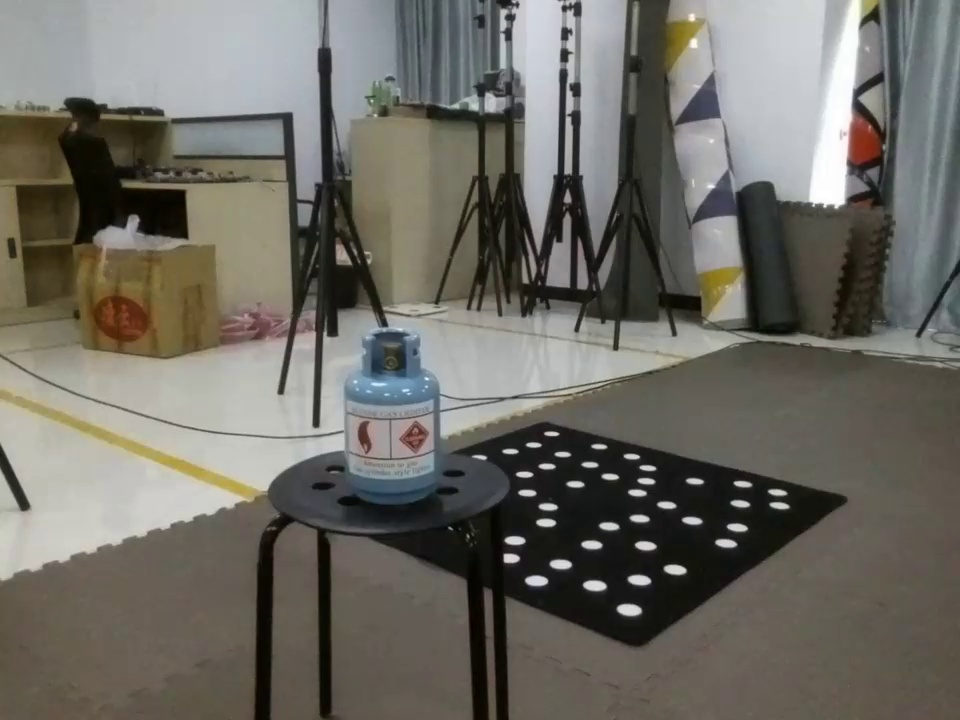gas tank: (334, 324, 466, 511)
